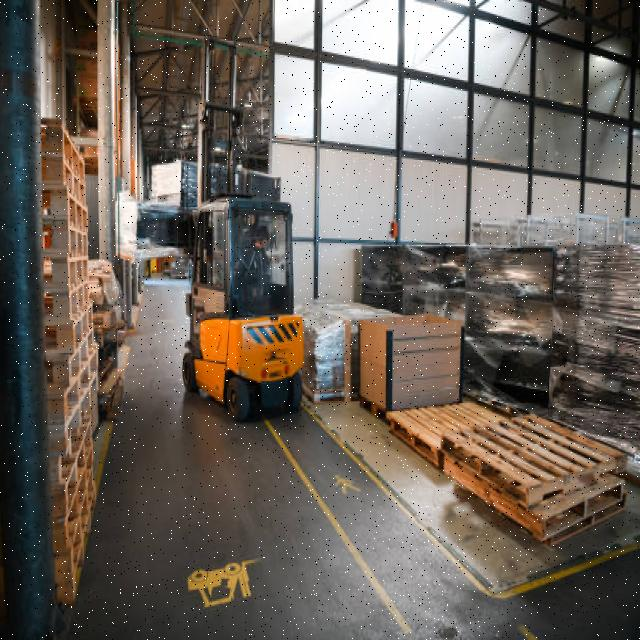Wooden-Pallets: (535, 473, 632, 549), (58, 405, 99, 528), (384, 399, 444, 483), (58, 338, 109, 435), (55, 114, 96, 188)
